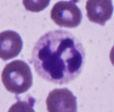N: (32, 29, 86, 83)
